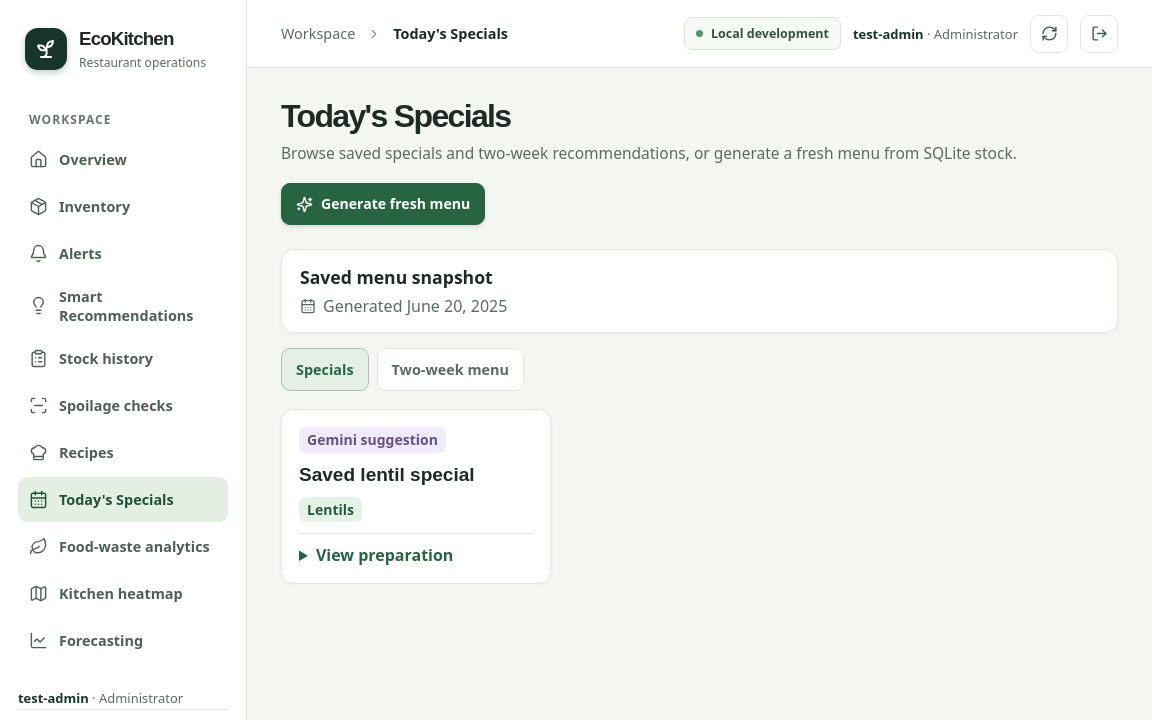
Test: Dashboard Gemini workflows › loads and switches dated snapshots without generation until explicitly requested
The width and height of the screenshot is (1152, 720).
Check: the heading "Saved lentil special" is shown, box [299,464,475,486]
Check: the text "Generated June 20, 2025" is shown, box [300,295,507,317]
Click the button "Two-week menu" at (450,370), box [377,348,524,391]
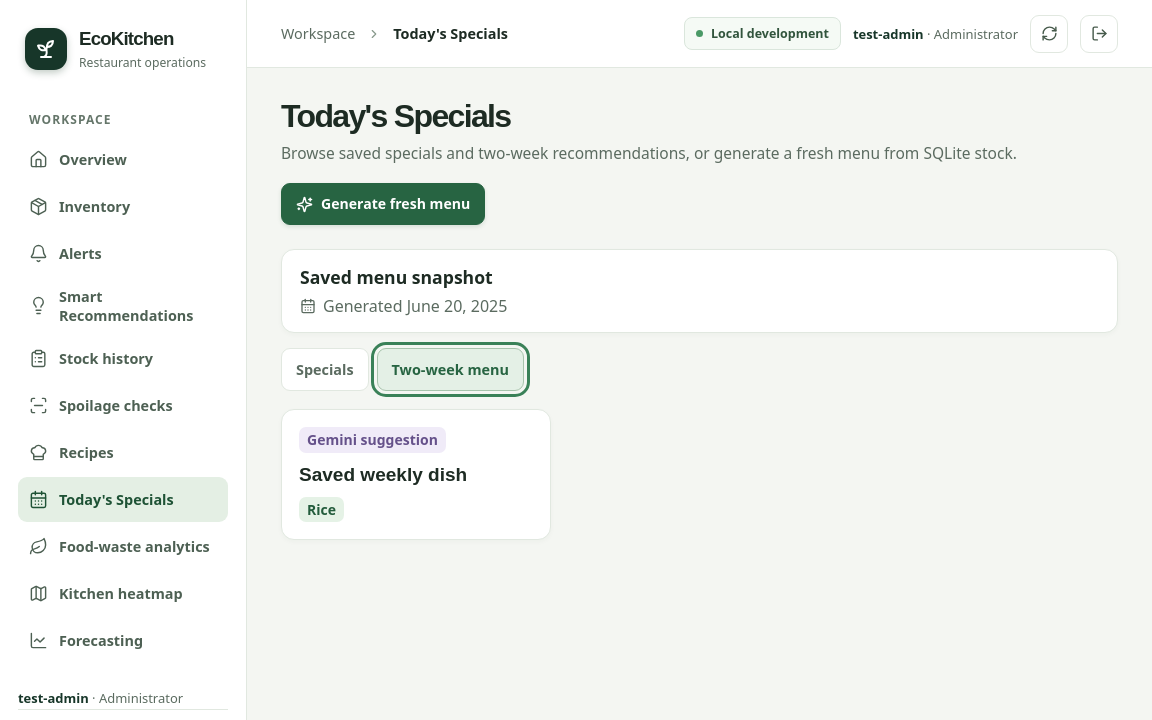
Check: the heading "Saved weekly dish" is shown, box [299,464,467,486]
Click the button "Specials" at (325,370), box [281,348,369,391]
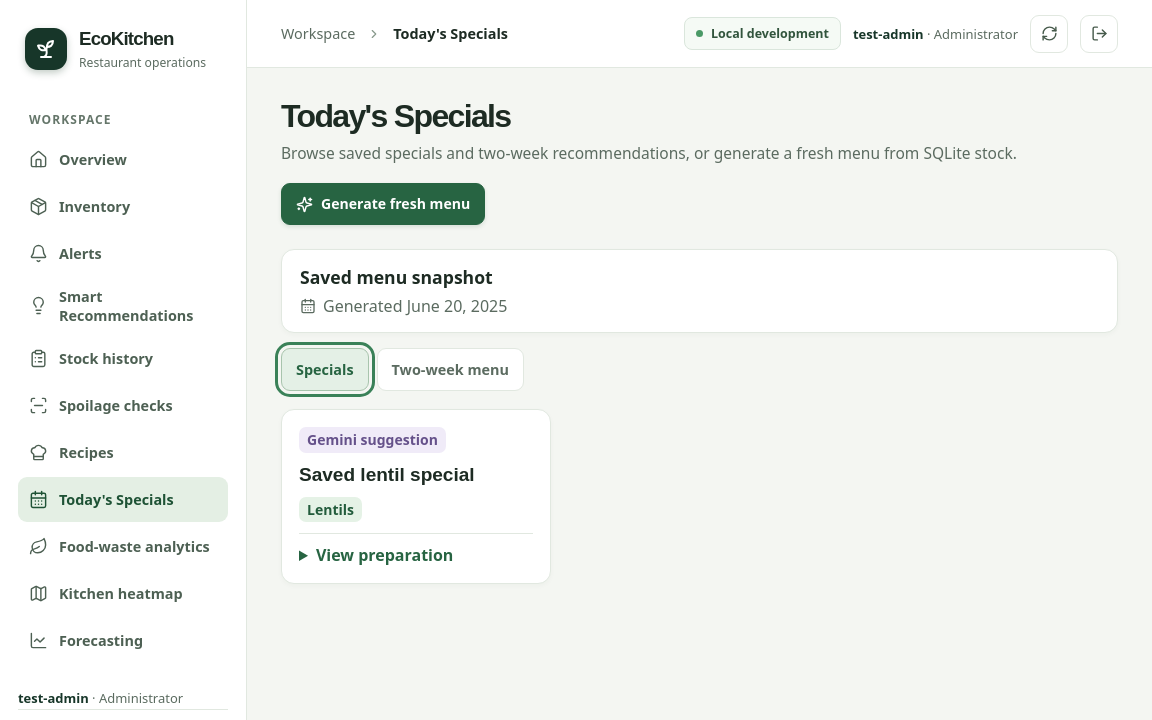
Click the button "Generate fresh menu" at (383,204), box [281,183,485,225]
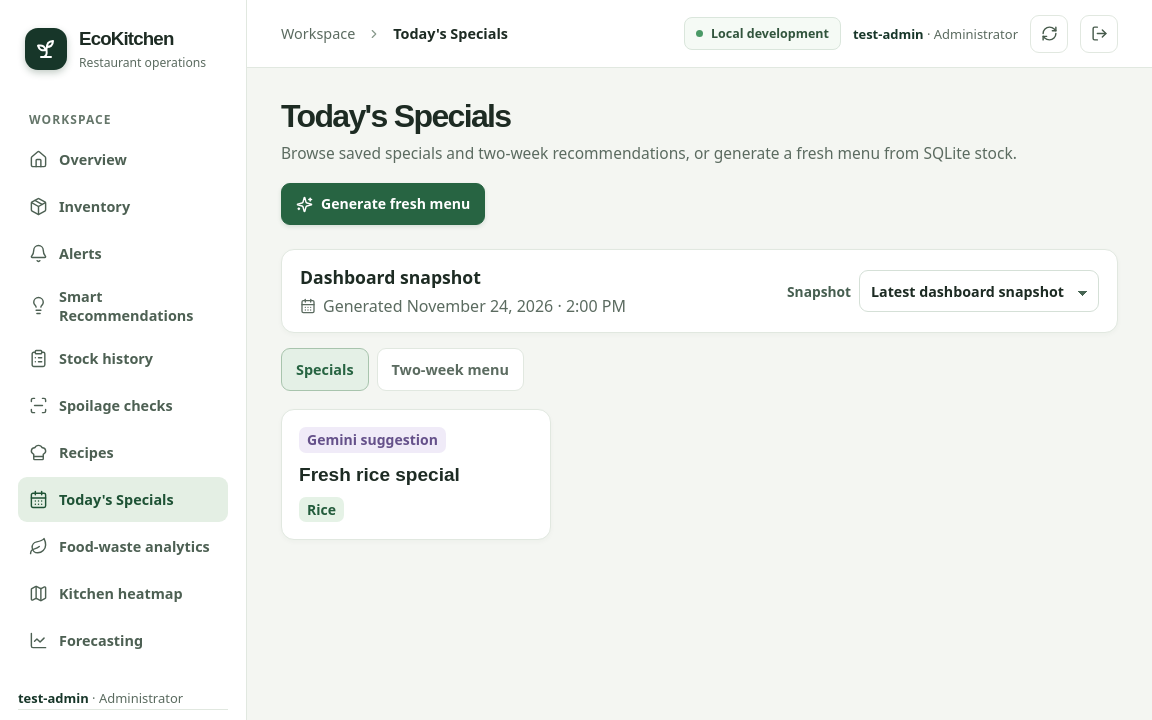
Check: the heading "Fresh rice special" is shown, box [299,464,460,486]
Check: the text "Generated November 24, 2026 · 2:00 PM" is shown, box [300,295,626,317]
Select "Nov 20, 2026" in the dropdown labelled "Snapshot" at (979,291), box [859,270,1099,312]
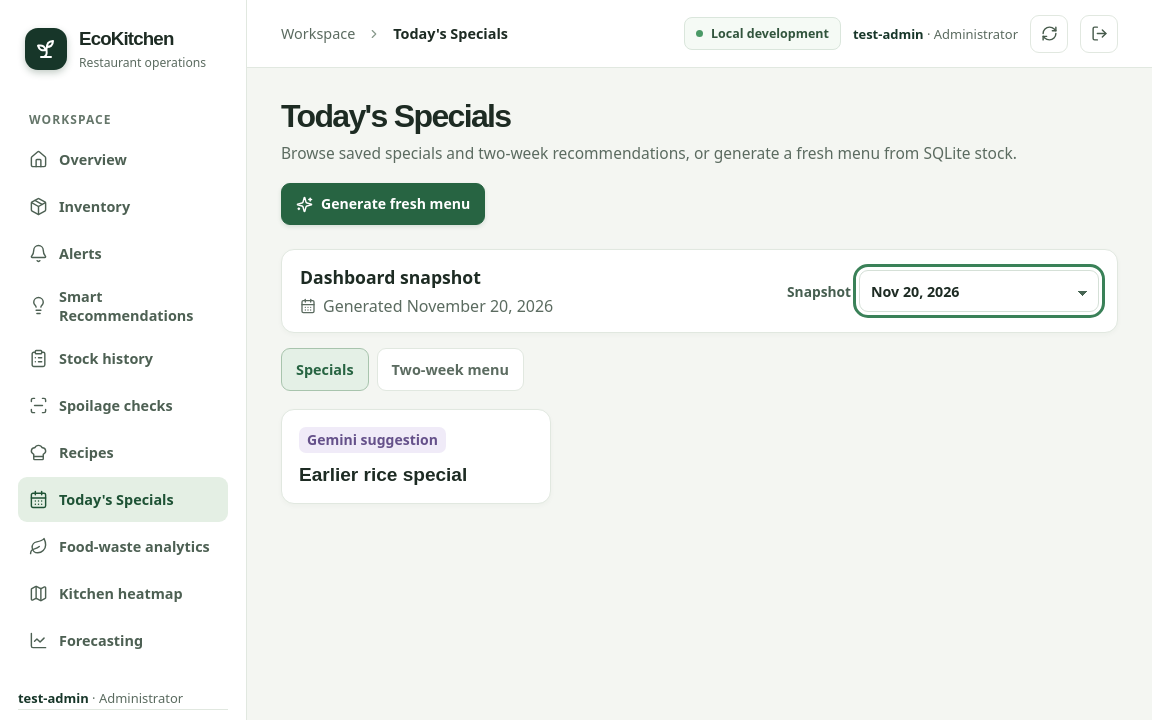
Check: the heading "Earlier rice special" is shown, box [299,464,467,486]
Select "Original saved snapshot" in the dropdown labelled "Snapshot" at (979,291), box [859,270,1099,312]
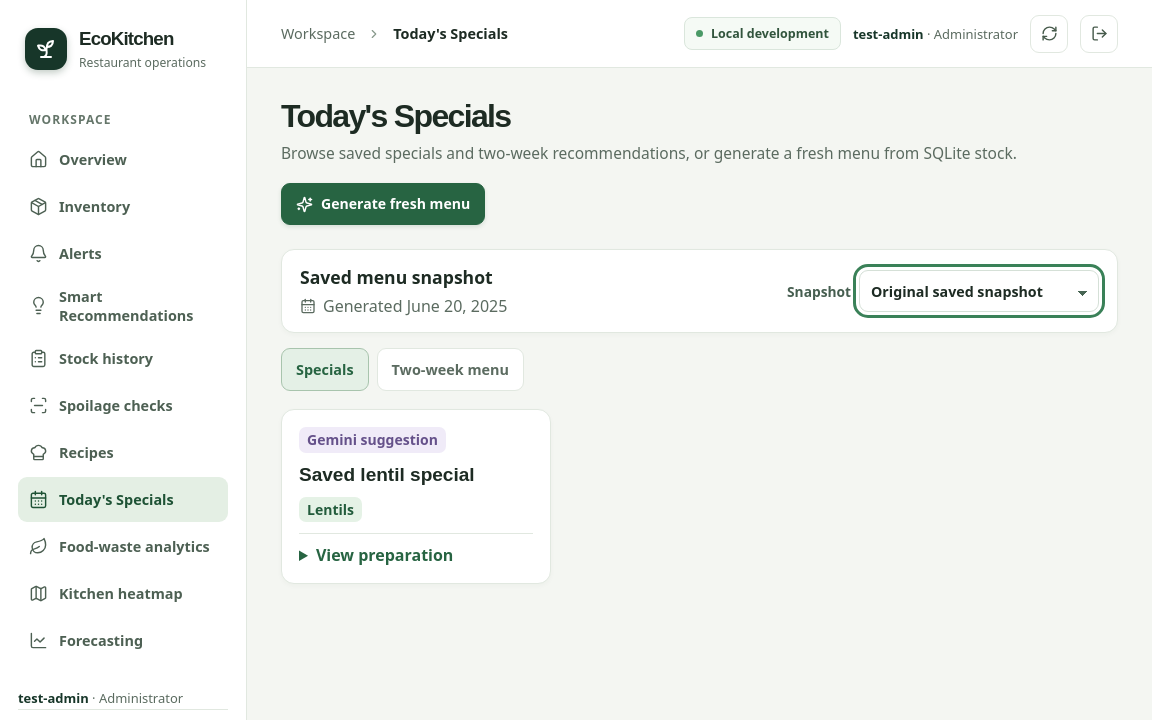
Check: the heading "Saved lentil special" is shown, box [299,464,475,486]
